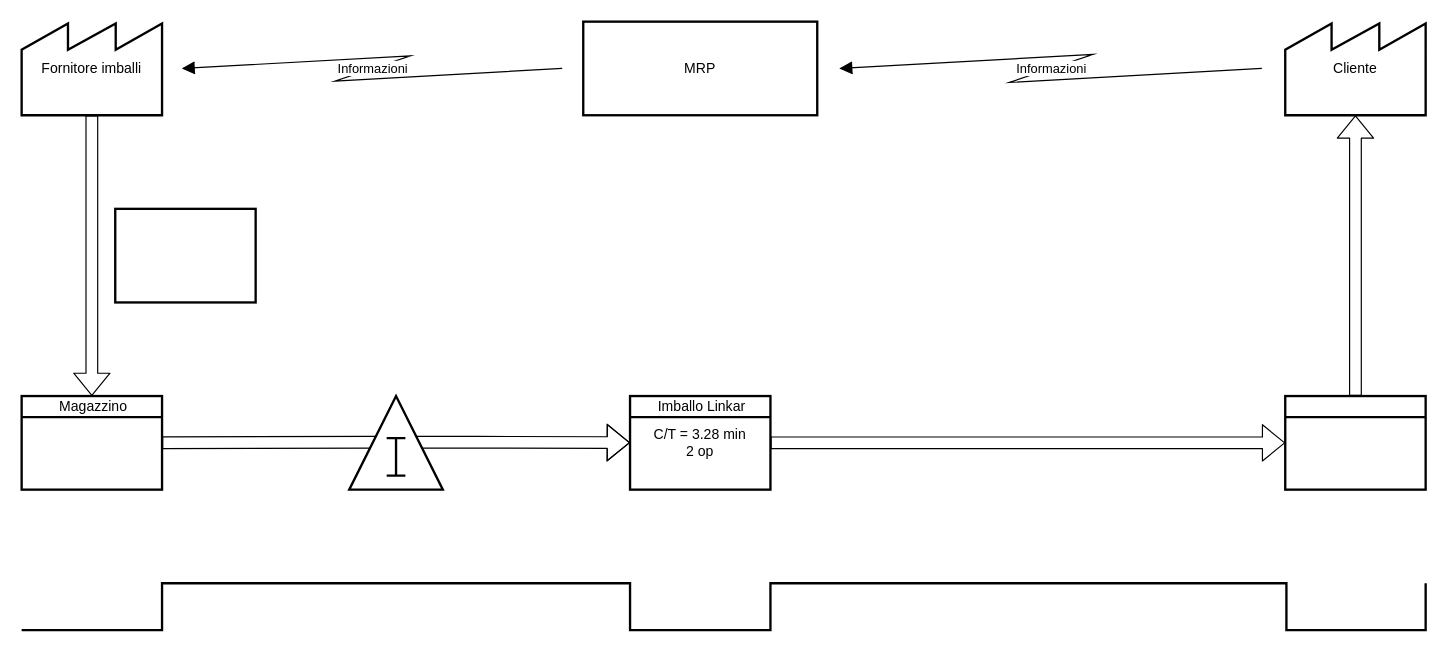
Image size: 1446x651. Some labels were removed from this diagram. The shapes that lost their labels are listed below. From the top down, each one's centre as x and y in pixels, then its label:
At pixel 184 255: "Lotti minimi di consegna".
At pixel 1354 442: "Spedizioni".
